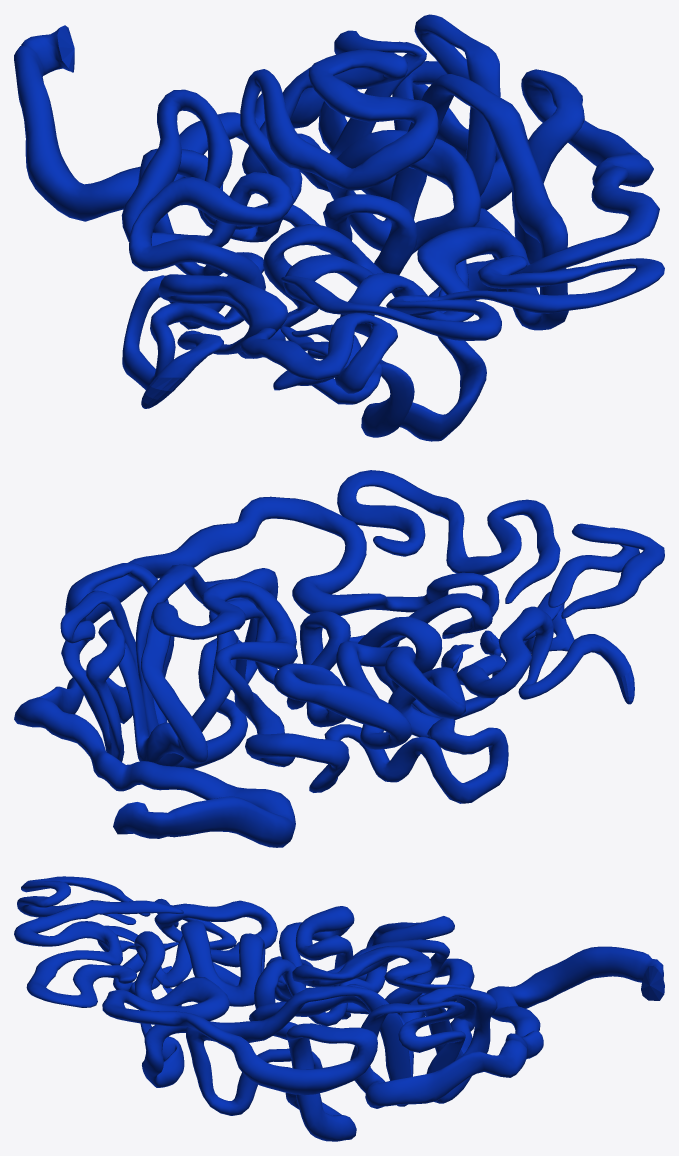
The model's file is SmallIntestine_4_Mucosa.fbx.
3 views of the same model, one above another, from view 1: azimuth 30°, elevation 25°; view 2: azimuth 150°, elevation 25°; view 3: azimuth 270°, elevation 25° (orthographic). The views are drawn at different scales.
Parts seen in each view (by area): view 1: SmallIntestine_4_Mucosa; view 2: SmallIntestine_4_Mucosa; view 3: SmallIntestine_4_Mucosa.
Part boxes in pixels (left/top/right/bottom): SmallIntestine_4_Mucosa: left=14, top=14, right=664, bottom=441; SmallIntestine_4_Mucosa: left=14, top=470, right=664, bottom=847; SmallIntestine_4_Mucosa: left=14, top=876, right=664, bottom=1141.
Size of the model in its own units: 186 by 71.71 by 258.
